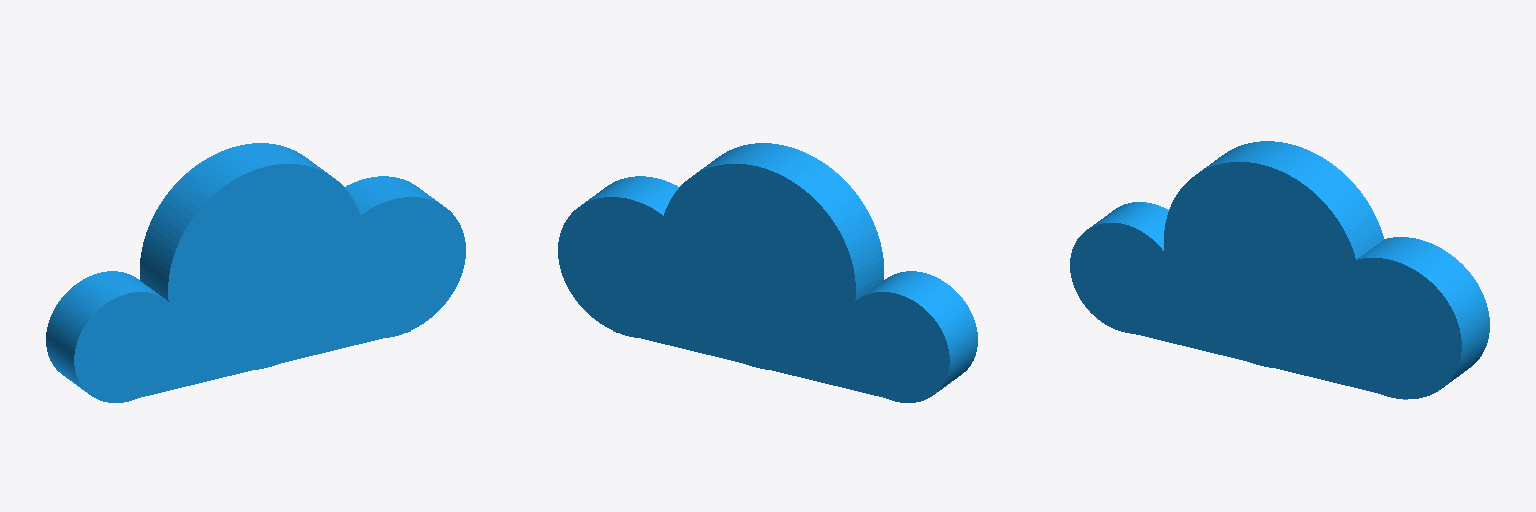
Rendered from cloud_p2.obj.
3 views of the same model, side by side, from view 1: azimuth 30°, elevation 25°; view 2: azimuth 150°, elevation 25°; view 3: azimuth 330°, elevation 25° (orthographic).
Visible parts, largest first — view 1: Curve_path4094; view 2: Curve_path4094; view 3: Curve_path4094.
Part boxes in pixels (left/top/right/bottom): Curve_path4094: left=46, top=143, right=465, bottom=402; Curve_path4094: left=558, top=143, right=977, bottom=402; Curve_path4094: left=1070, top=141, right=1489, bottom=399.
Bounding box in the file's own units: 2.4 × 1.18 × 0.3.